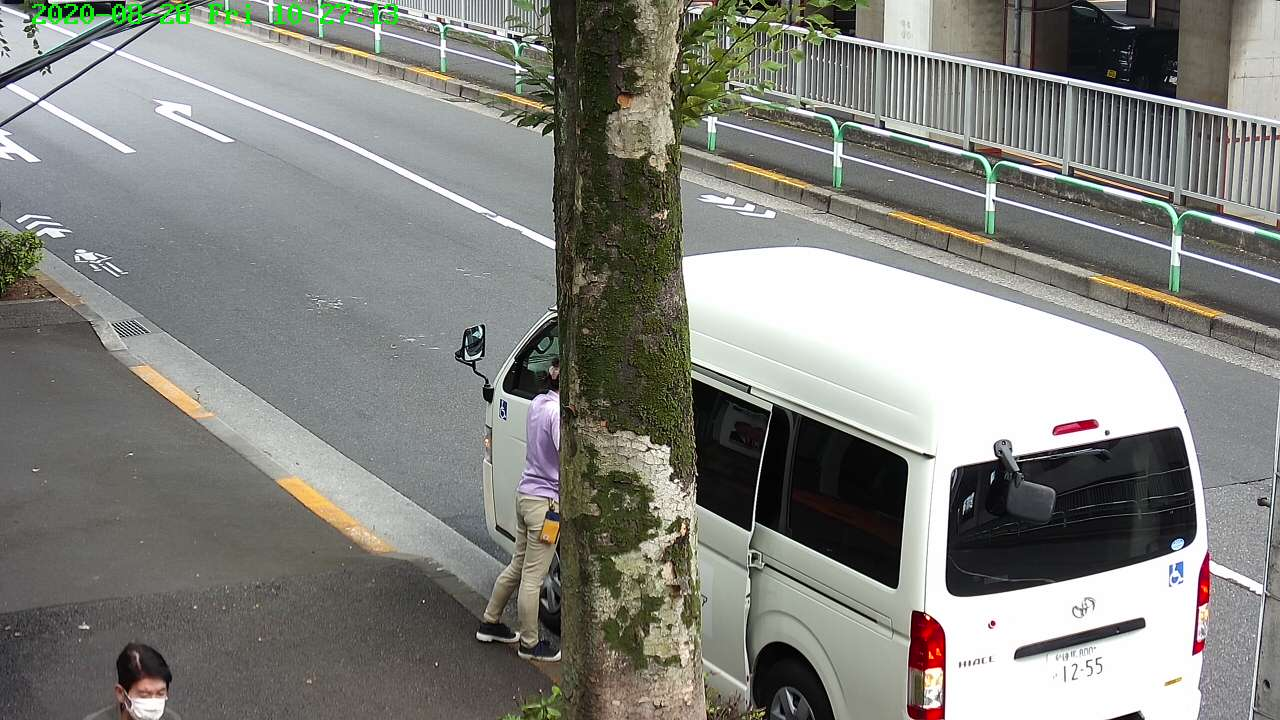number_plate: (1048, 646, 1115, 690)
